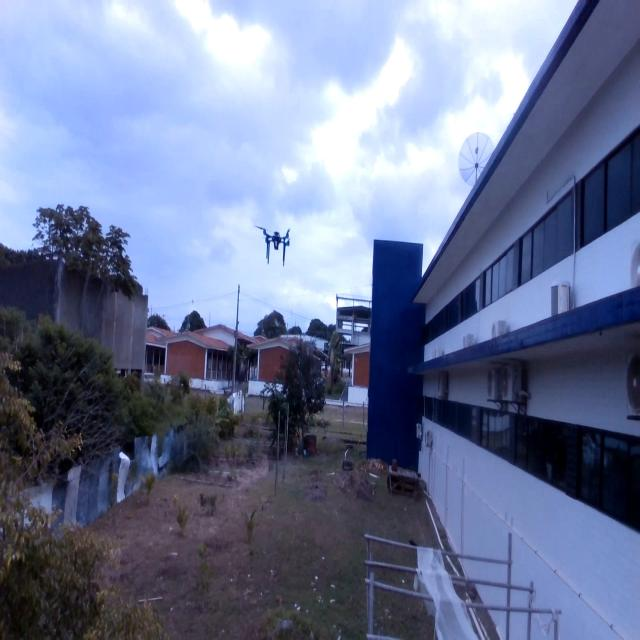-uav-: (251, 218, 307, 270)
